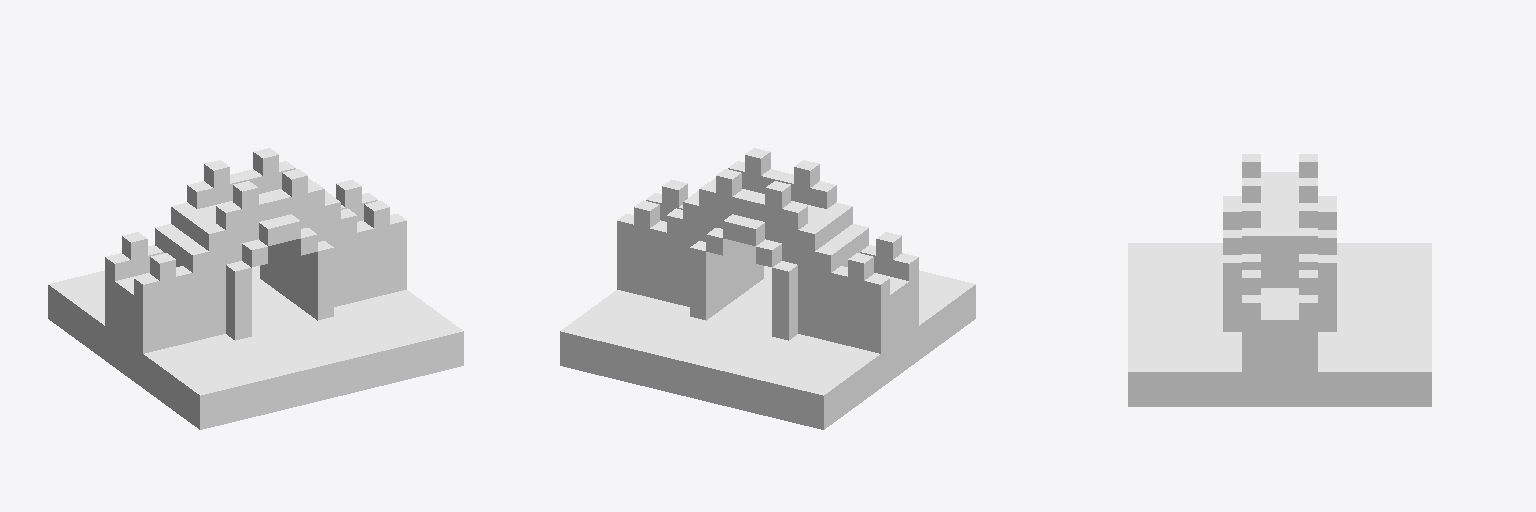
Rendered from Castle_entrance_1.obj.
3 views of the same model, side by side, from view 1: azimuth 30°, elevation 25°; view 2: azimuth 150°, elevation 25°; view 3: azimuth 270°, elevation 25° (orthographic).
Parts seen in each view (by area): view 1: object 1; view 2: object 1; view 3: object 1.
Part boxes in pixels (left/top/right/bottom): object 1: left=48, top=148, right=463, bottom=429; object 1: left=560, top=148, right=975, bottom=429; object 1: left=1128, top=154, right=1431, bottom=406.
Bounding box in the file's own units: 1.6 × 1 × 1.6.